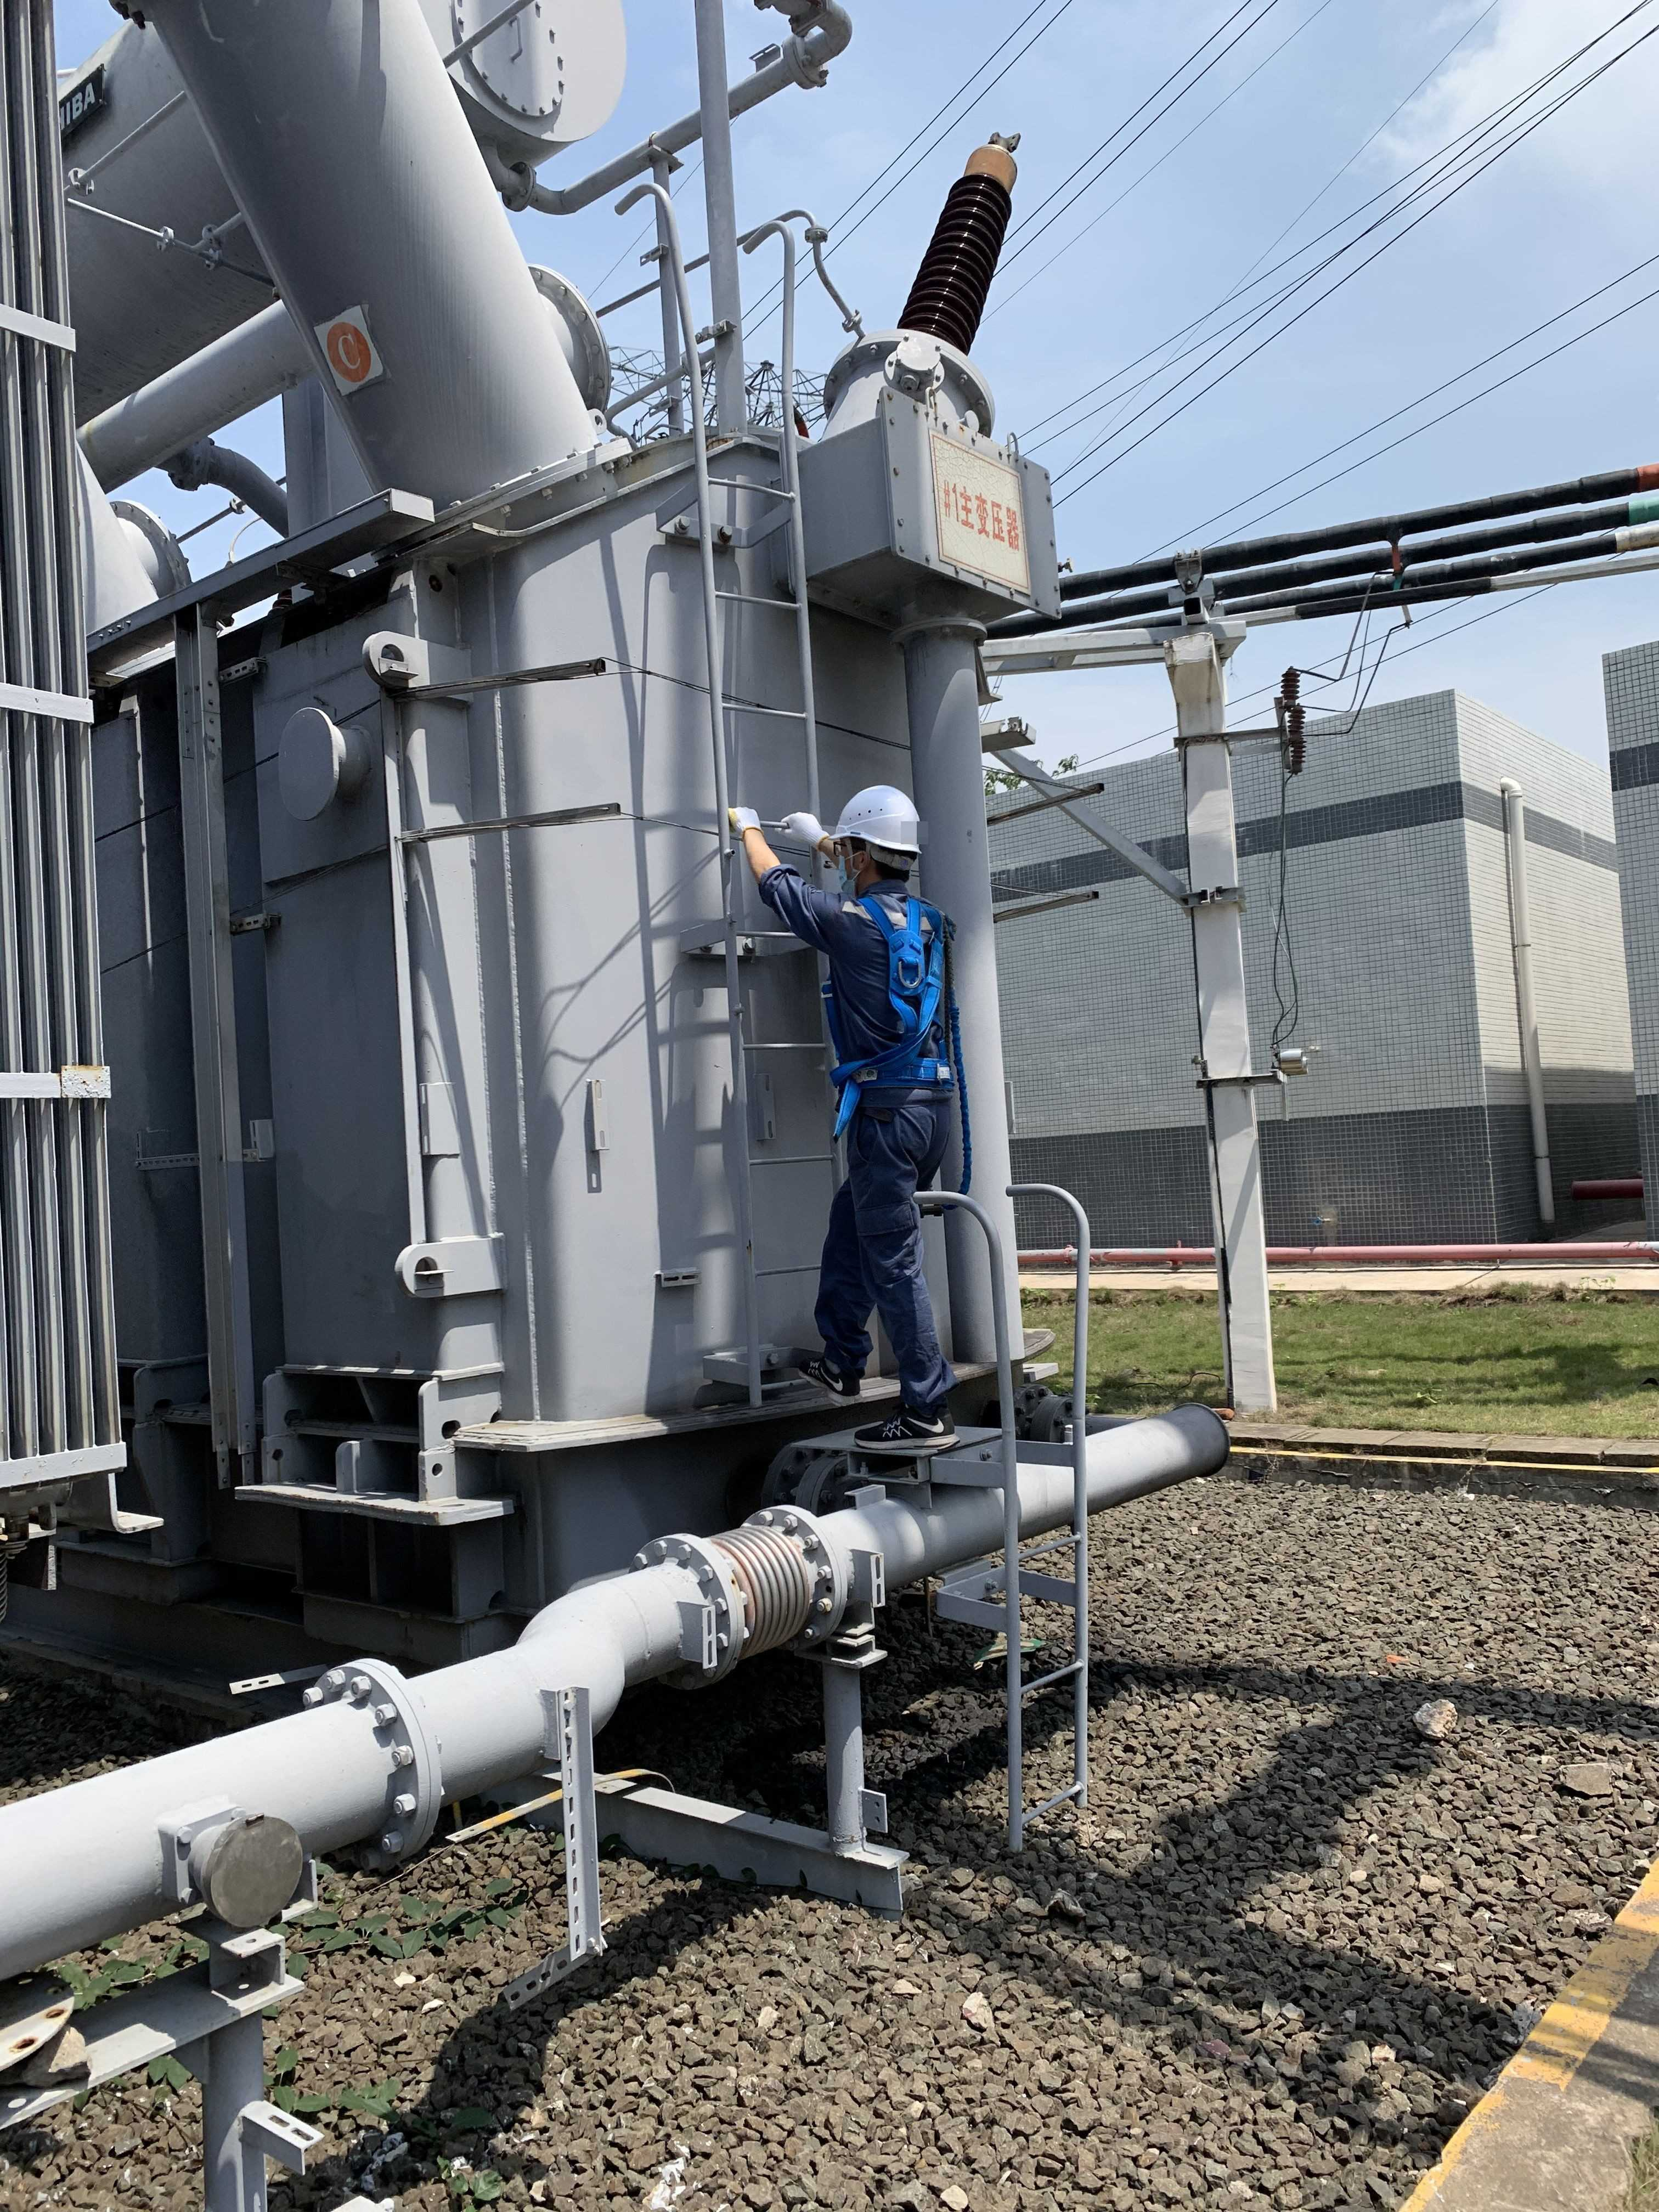downsuit: (810, 1106, 964, 1402)
upsuit: (756, 867, 978, 1083)
wrongtop: (732, 824, 805, 909)
